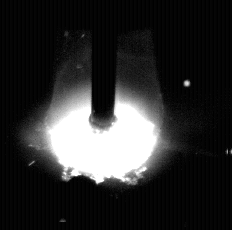arame: (92, 0, 117, 130)
poca: (44, 0, 164, 230)
